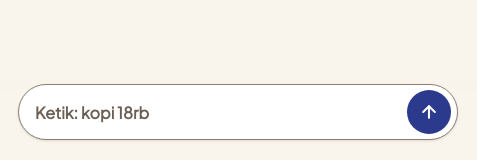
Scenario: Home features & components (Milestone M3 & 0.3.0 Tugas 1) › validates QuickAddBar input, saves transaction, and allows undo via Toast Batalkan
Later steps or results of the test are not shown.
Type "kopi" into the field with placeholder "Ketik: kopi 18rb" at x=217, y=112, box [35,102,399,122]
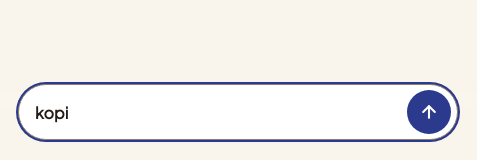
Click the button named "Simpan catatan cepat" at x=429, y=112, box [407,90,451,134]
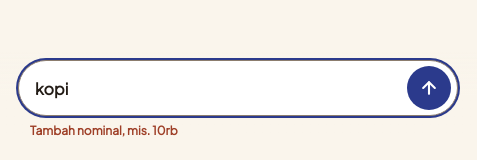
Check: the message reads "Tambah nominal, mis. 10rb", box [30,123,178,138]
Clear the field with placeholder "Ketik: kopi 18rb" at x=217, y=88, box [35,78,399,98]
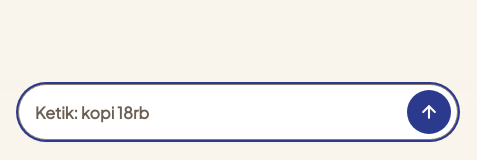
Type "kopi 18rb" into the field with placeholder "Ketik: kopi 18rb" at x=217, y=112, box [35,102,399,122]
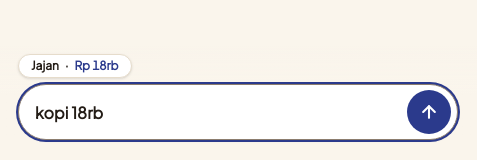
Click the button named "Simpan catatan cepat" at x=429, y=112, box [407,90,451,134]
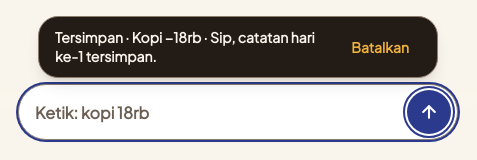
Check: the message shows "Tersimpan · Kopi −18rb", box [55,28,315,65]
